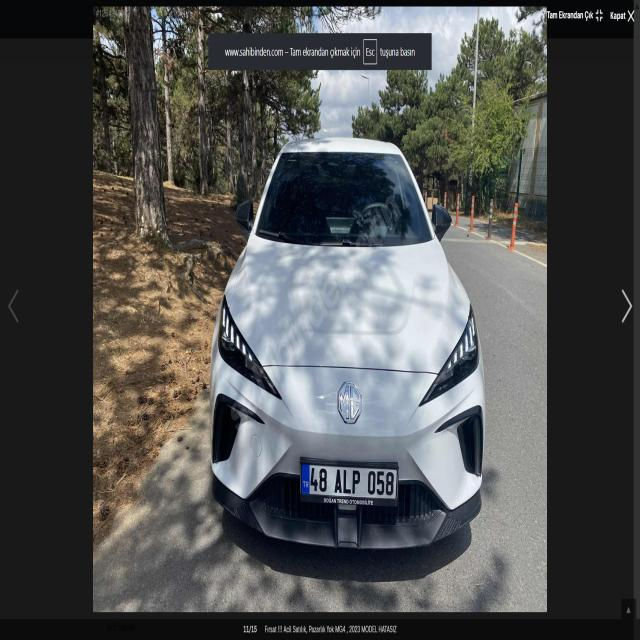mg: (325, 367, 375, 432)
